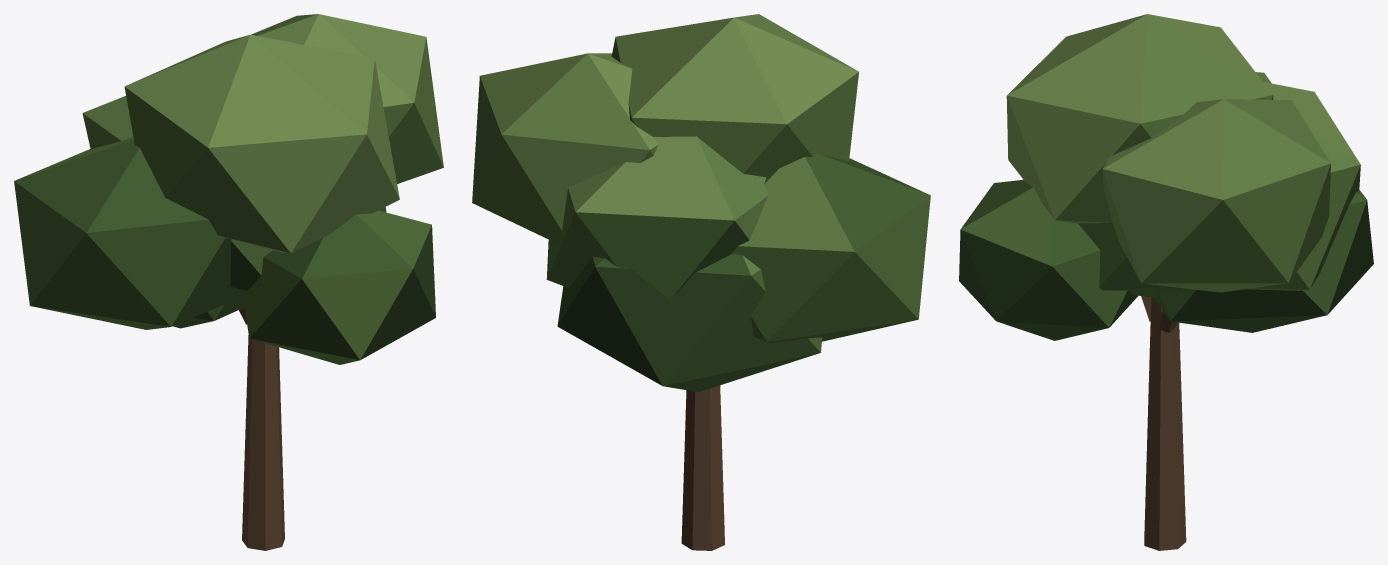
File: lwf_tree_field_maple_v1.glb
3 renders of one model, left to right at view 1: azimuth 30°, elevation 25°; view 2: azimuth 150°, elevation 25°; view 3: azimuth 270°, elevation 25°, orthographic.
Parts seen in each view (by area): view 1: Crown, Trunk; view 2: Crown, Trunk; view 3: Crown, Trunk.
Boxes of the visible parts, x1=… form: Crown: x1=14, y1=14, x2=443, y2=364; Trunk: x1=239, y1=307, x2=284, y2=550; Crown: x1=472, y1=14, x2=930, y2=392; Trunk: x1=681, y1=385, x2=724, y2=550; Crown: x1=959, y1=14, x2=1373, y2=340; Trunk: x1=1141, y1=296, x2=1186, y2=550.
Size of the model in its own units: 6.5 by 7.75 by 5.63.
1 material, 1 textured.
